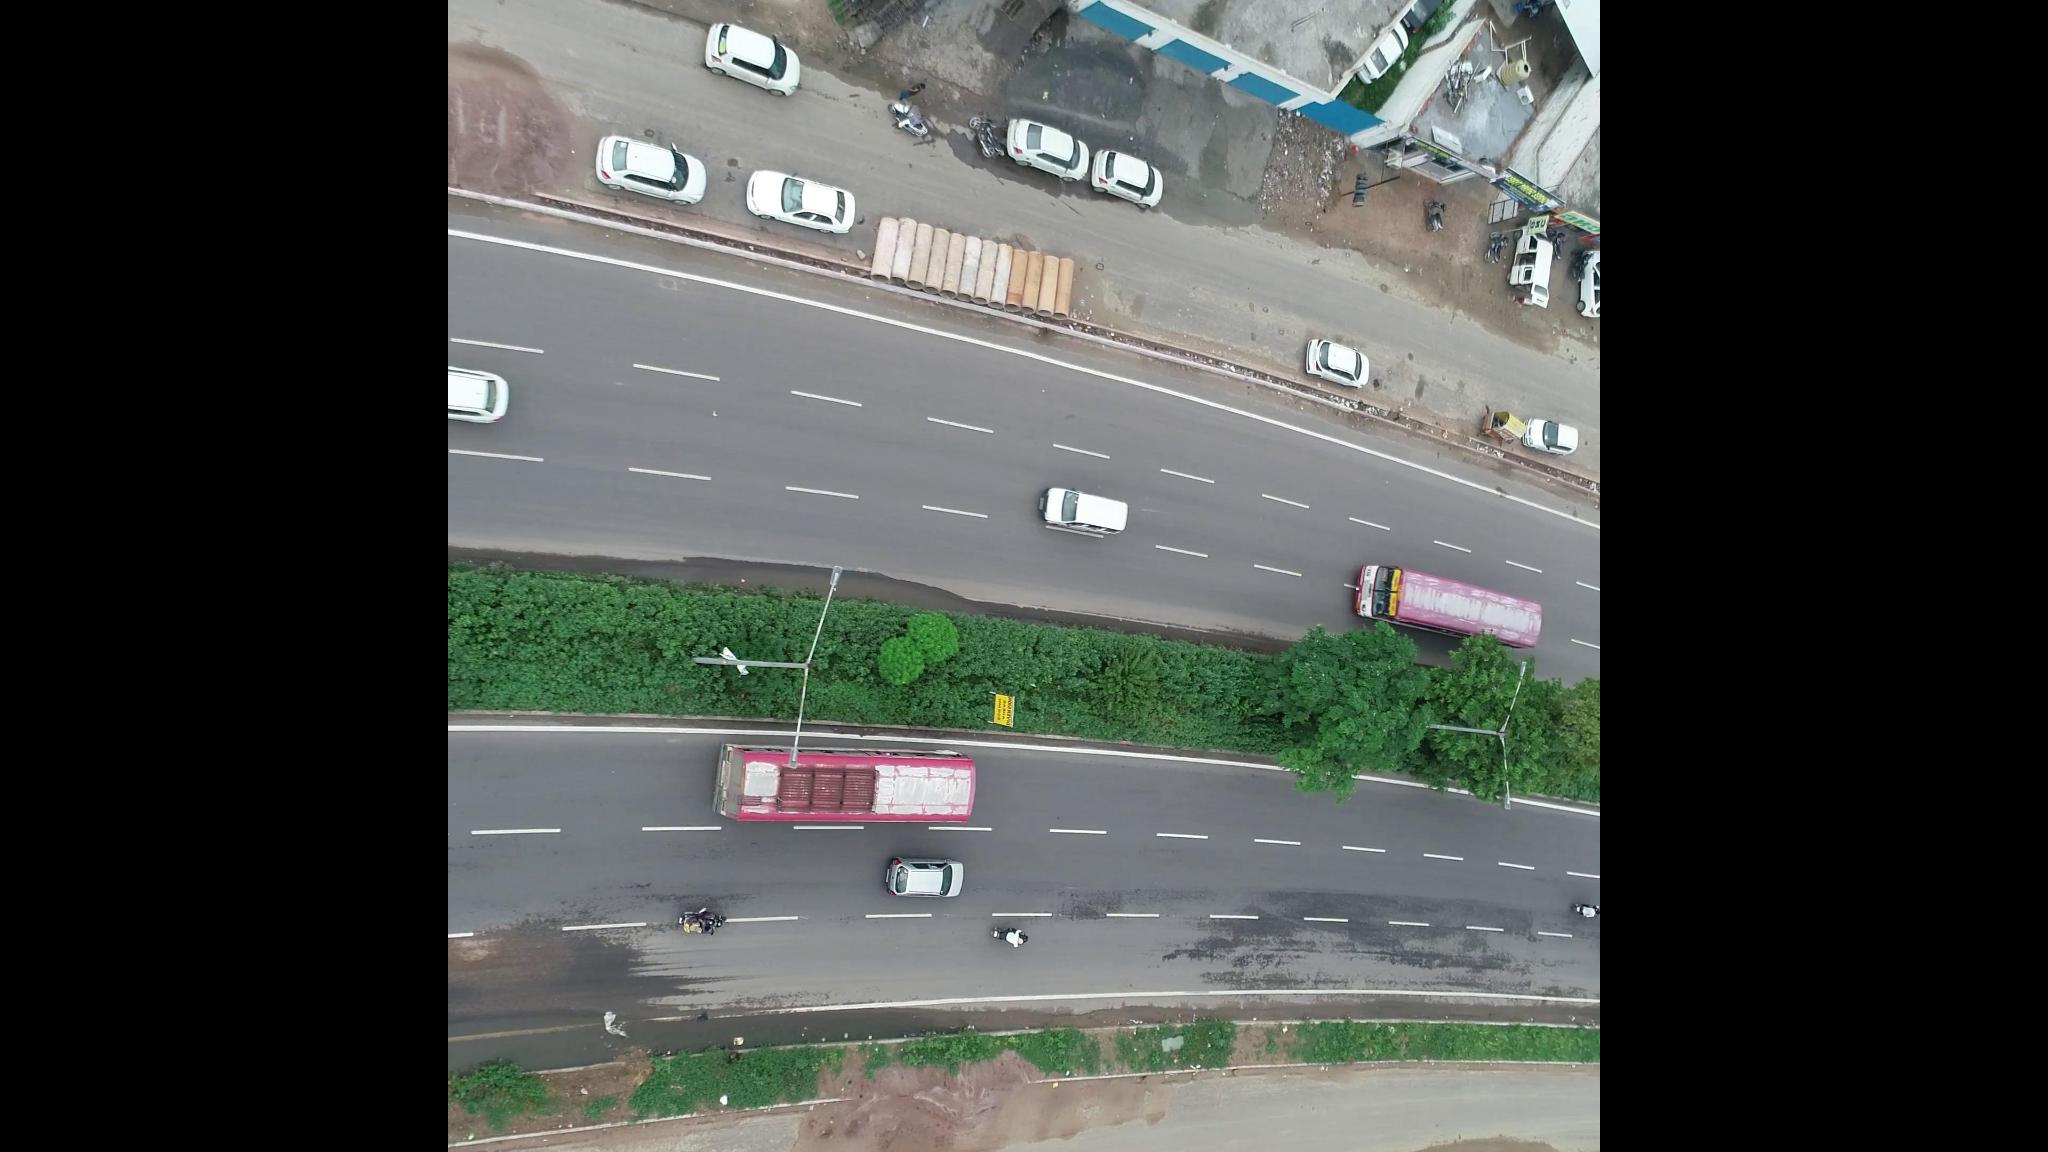Muddy_road: (810, 1083, 1099, 1152)
Ravelling: (1183, 935, 1526, 994), (1059, 881, 1207, 911)
